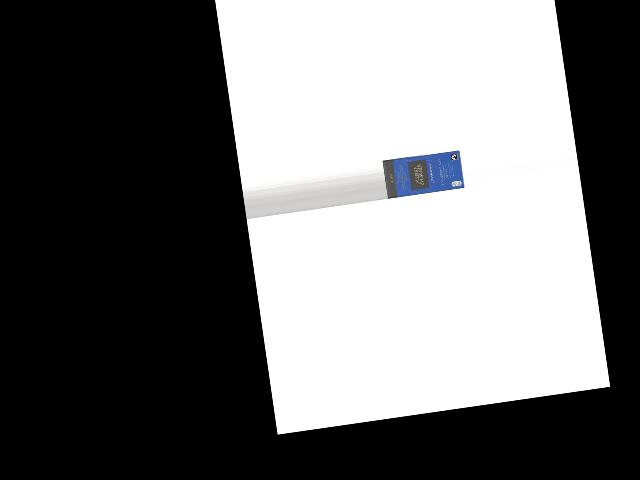chocolate: (382, 149, 463, 199)
